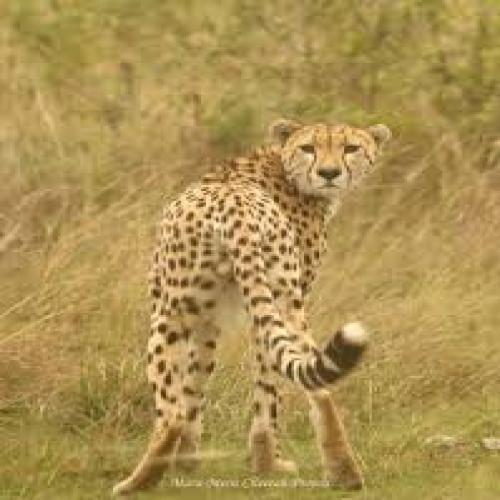cheetah-endangered: (113, 117, 392, 494)
